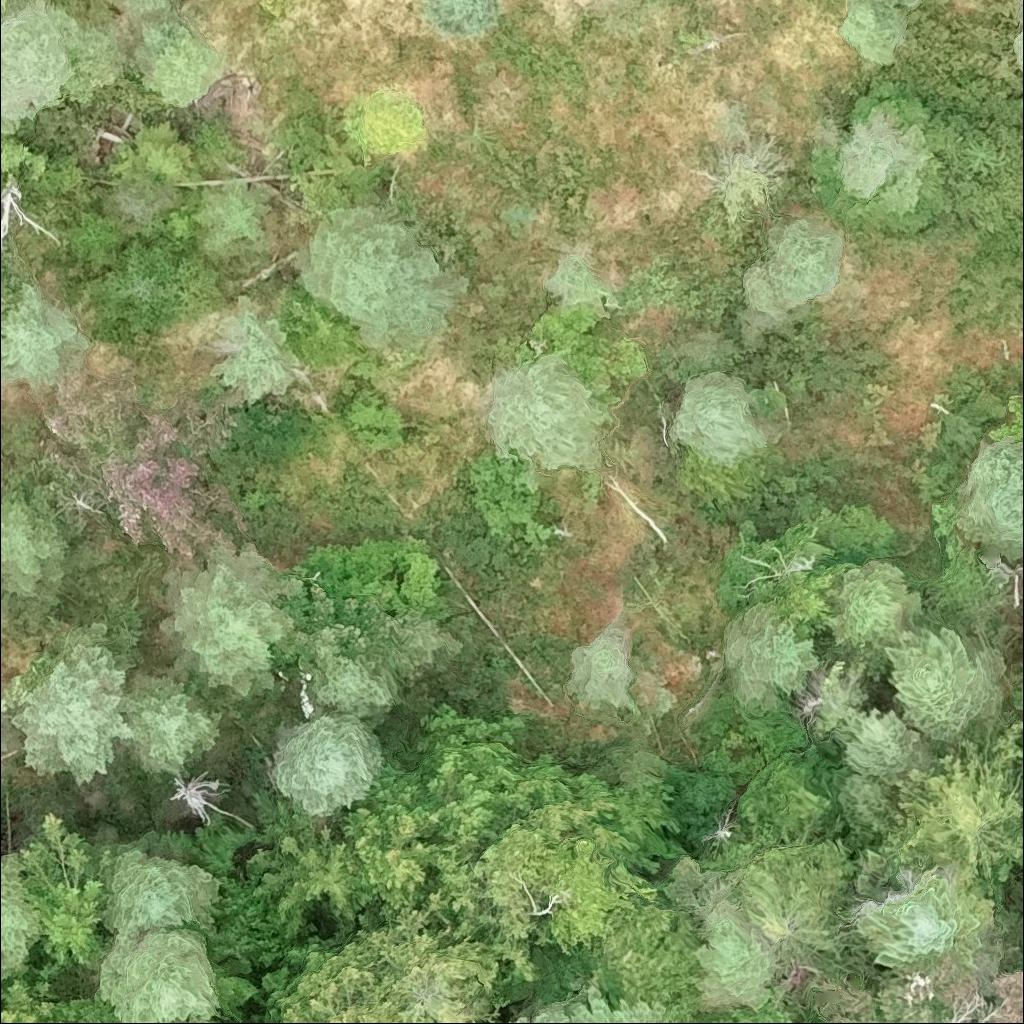crown: (419, 703, 592, 880), (473, 801, 658, 955), (880, 717, 1023, 898), (300, 205, 471, 351), (162, 543, 298, 697), (850, 845, 1000, 984), (273, 582, 460, 693), (354, 894, 507, 1023), (9, 645, 143, 785), (881, 624, 1012, 753), (243, 822, 376, 941), (489, 354, 614, 472), (520, 296, 644, 413), (718, 583, 829, 713), (337, 761, 437, 905), (21, 813, 114, 967), (744, 847, 854, 975), (808, 964, 1023, 1023), (98, 840, 220, 942), (592, 896, 699, 1011), (94, 926, 218, 1023), (823, 558, 924, 673), (824, 692, 944, 787), (274, 714, 383, 816), (264, 940, 396, 1023), (116, 678, 221, 777), (734, 751, 836, 848), (745, 217, 844, 315), (0, 1, 72, 133), (668, 372, 771, 460), (840, 108, 932, 201), (955, 443, 1023, 563), (213, 313, 302, 404), (300, 634, 392, 720), (0, 281, 79, 380), (136, 23, 223, 105), (505, 987, 686, 1023), (0, 502, 63, 600), (568, 625, 633, 715), (0, 846, 42, 978), (841, 0, 924, 65), (357, 83, 424, 158), (0, 181, 60, 256), (546, 255, 619, 312), (424, 0, 501, 49), (0, 987, 86, 1023), (172, 770, 225, 824), (987, 393, 1023, 445), (0, 255, 23, 322), (713, 1004, 790, 1023), (0, 688, 18, 757), (111, 0, 177, 15), (184, 1017, 201, 1023), (0, 330, 5, 338), (0, 764, 1, 771)
